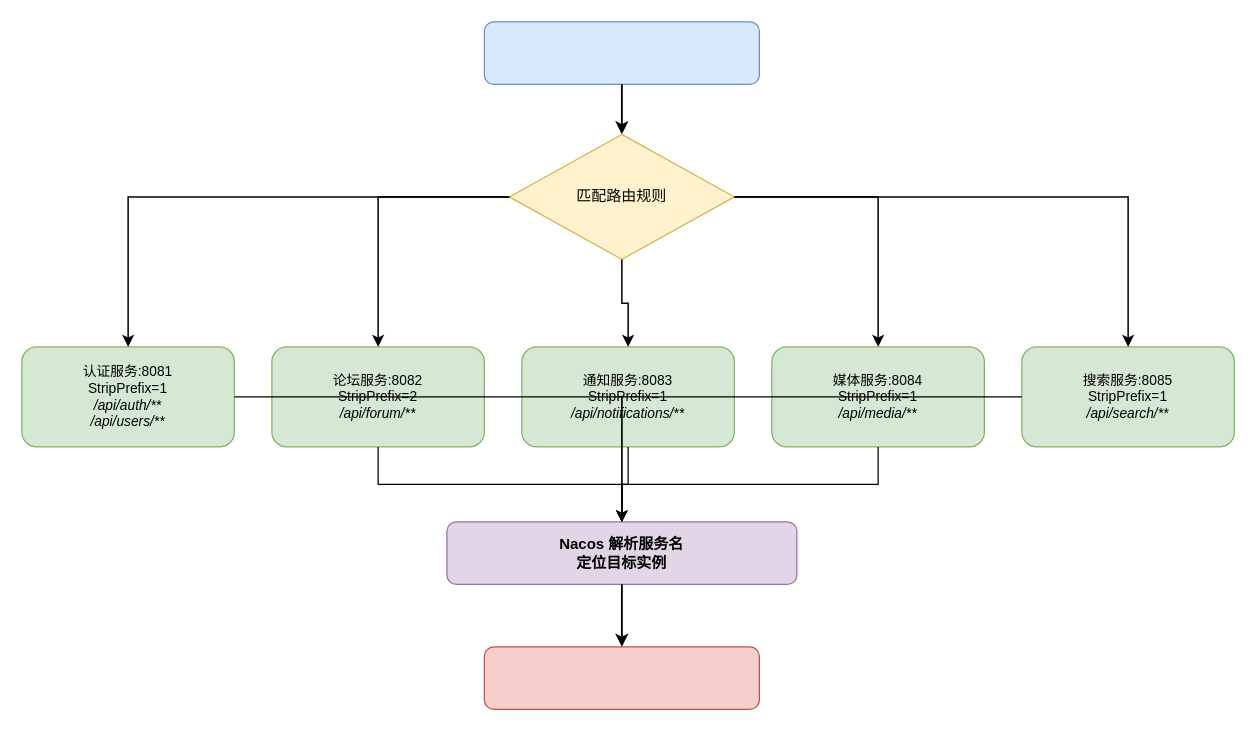
Image size: 1256x731. Some labels were removed from this diagram. Each missing label, with the box of its shape:
前端发起 HTTP 请求: (483, 21, 759, 84)
转发至目标服务实例: (483, 646, 759, 709)
